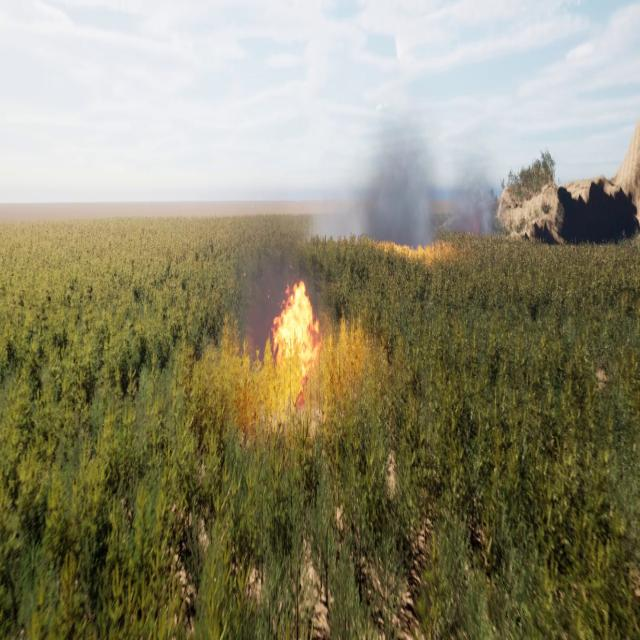fire: (270, 278, 344, 404), (372, 228, 448, 259)
smoke: (313, 113, 499, 231), (243, 232, 312, 367)
